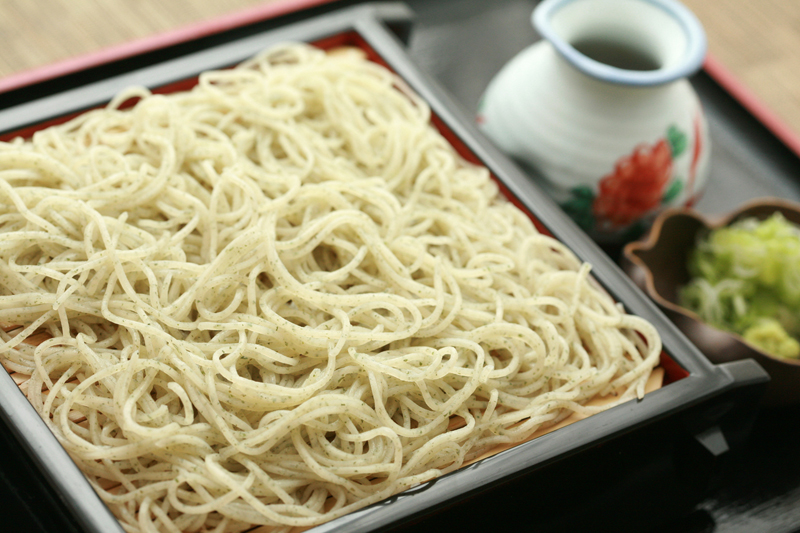Soba: (11, 39, 659, 508)
